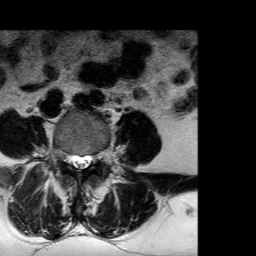CCS_severe_stenosis: (77, 144, 84, 177)
LFS_normal: (92, 144, 101, 169)
LLS_normal: (84, 145, 92, 171)
RFS_normal: (61, 143, 70, 170)
RLS_normal: (70, 144, 77, 175)
